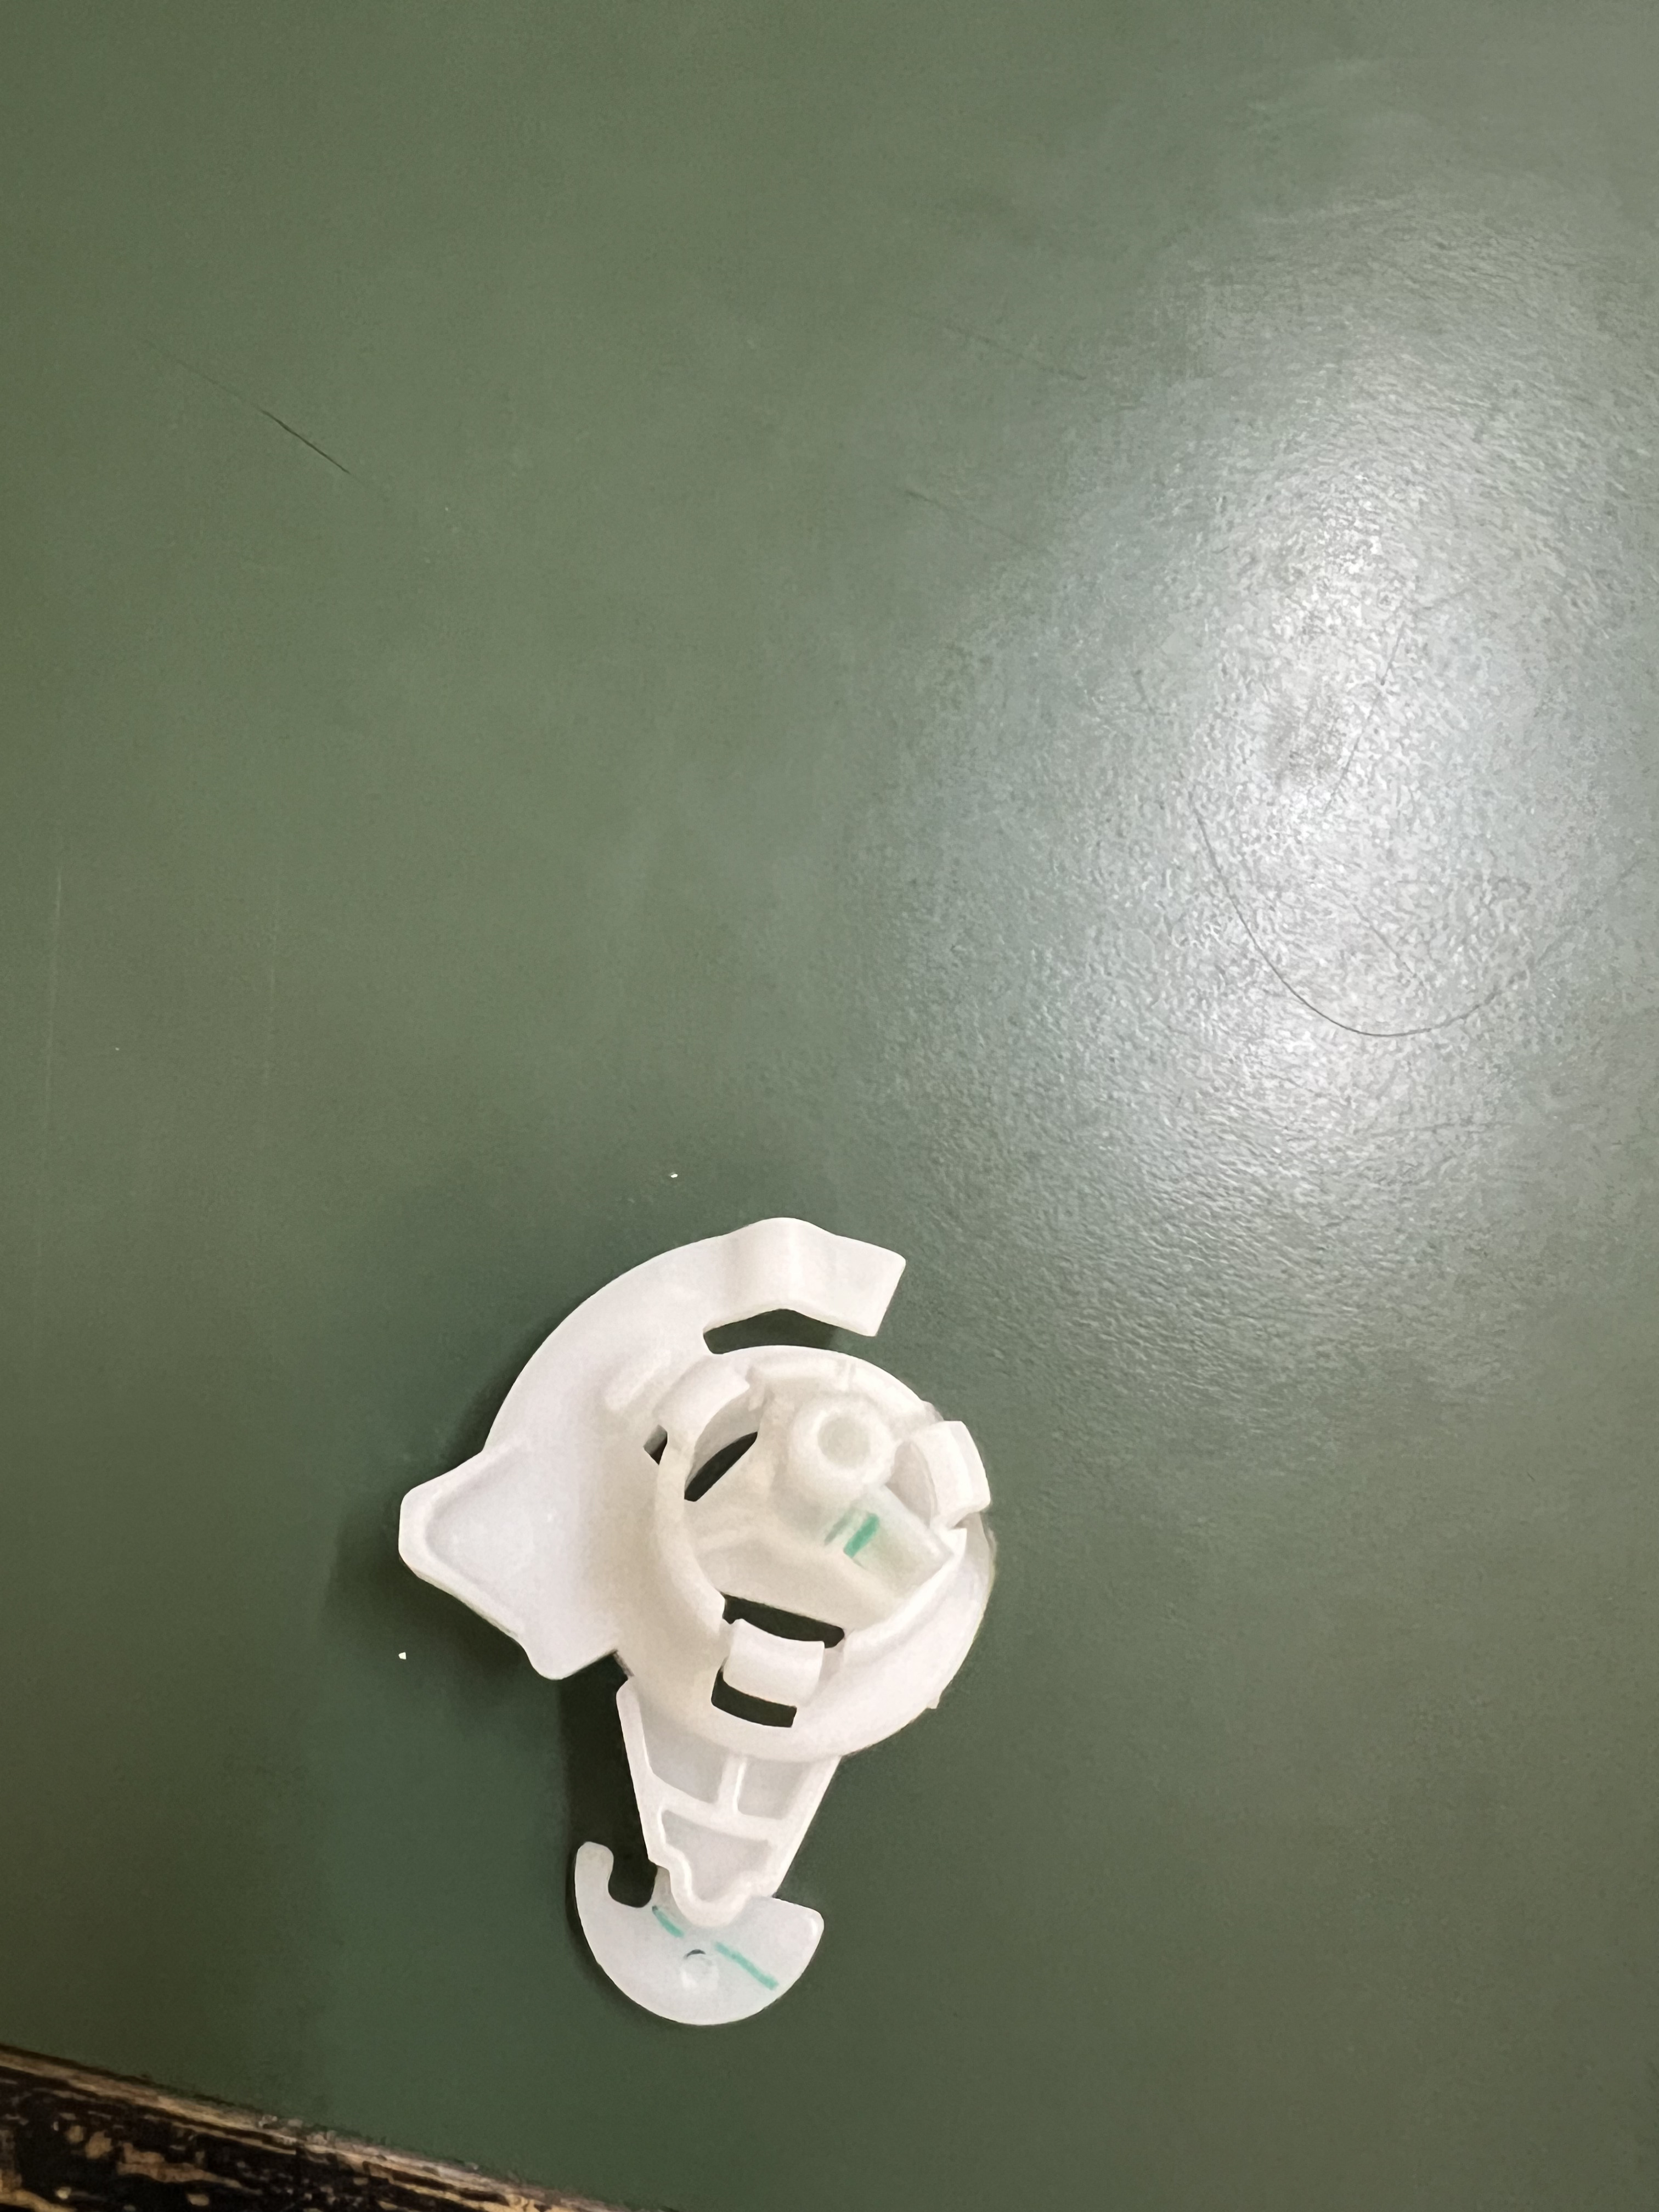drain_lever: (396, 1207, 1025, 2026)
